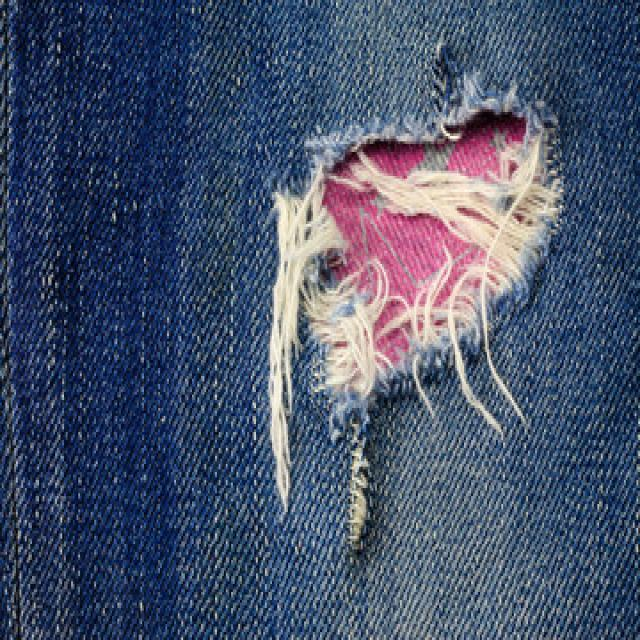Hole: (270, 46, 563, 554)
